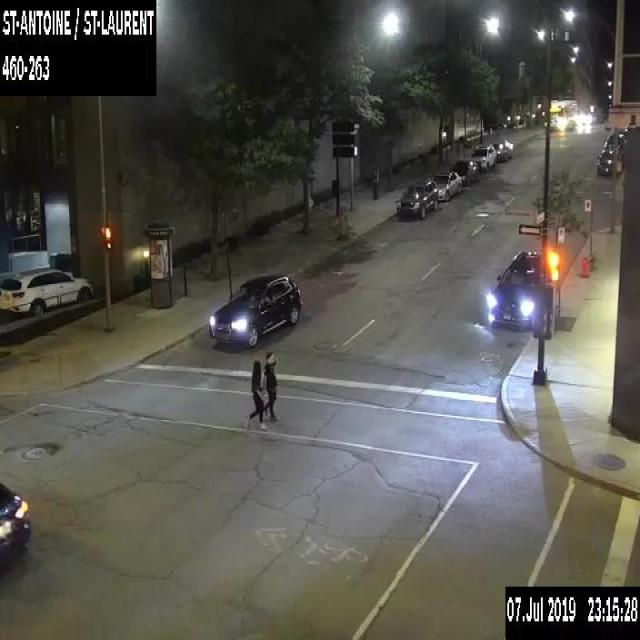bus: (549, 98, 577, 130)
pedestrian: (244, 359, 268, 428), (262, 350, 278, 420)
vehicle: (208, 272, 301, 347), (0, 266, 94, 315), (488, 248, 541, 327), (0, 480, 32, 573), (396, 177, 438, 218), (433, 170, 462, 200), (450, 158, 480, 185), (595, 147, 619, 178), (469, 142, 496, 169), (492, 138, 513, 160), (603, 132, 624, 149)
